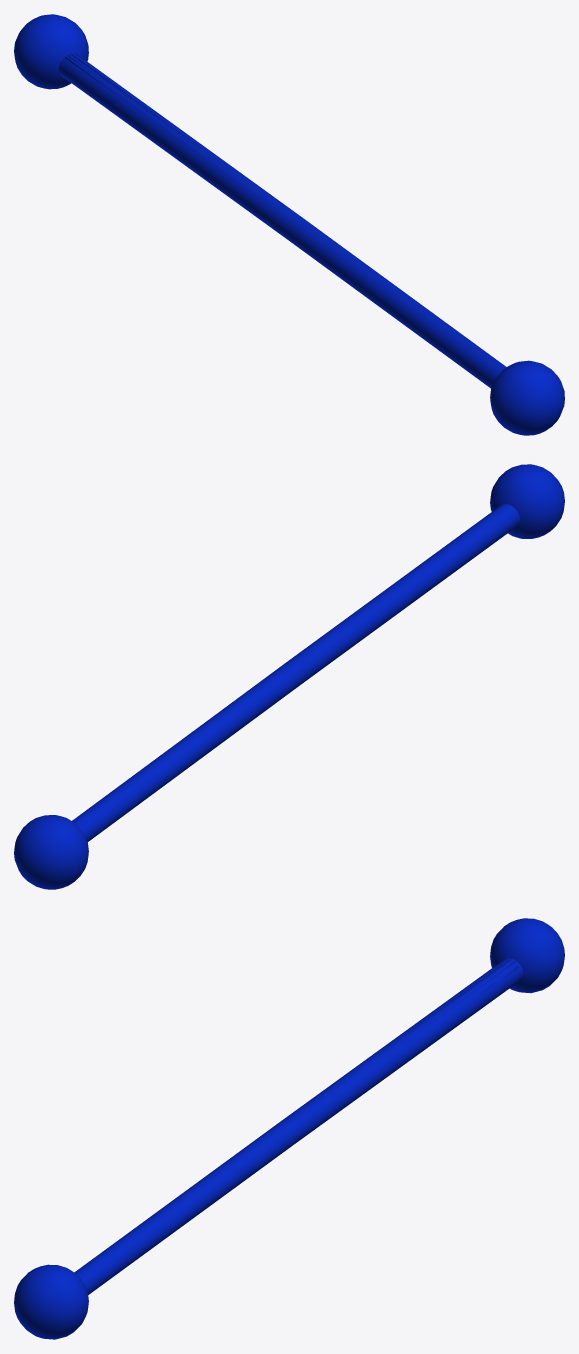
Rendered from line_blue.glb.
3 renders of one model, top to bottom at view 1: azimuth 30°, elevation 25°; view 2: azimuth 150°, elevation 25°; view 3: azimuth 330°, elevation 25°, orthographic.
Visible parts, largest first — view 1: biru_NurbsPath.008, Sphere.016_Sphere.017, Sphere.001_Sphere.016; view 2: biru_NurbsPath.008, Sphere.001_Sphere.016, Sphere.016_Sphere.017; view 3: biru_NurbsPath.008, Sphere.016_Sphere.017, Sphere.001_Sphere.016.
Part boxes in pixels (x1=…): biru_NurbsPath.008: x1=59, y1=53, x2=506, y2=388; Sphere.016_Sphere.017: x1=490, y1=360, x2=564, y2=435; Sphere.001_Sphere.016: x1=14, y1=14, x2=88, y2=89; biru_NurbsPath.008: x1=72, y1=504, x2=519, y2=841; Sphere.001_Sphere.016: x1=14, y1=815, x2=88, y2=889; Sphere.016_Sphere.017: x1=490, y1=464, x2=564, y2=538; biru_NurbsPath.008: x1=74, y1=958, x2=523, y2=1294; Sphere.016_Sphere.017: x1=14, y1=1264, x2=88, y2=1339; Sphere.001_Sphere.016: x1=490, y1=918, x2=564, y2=993.
Bounding box in the file's own units: 0.1688 × 0.174 × 2.31.
